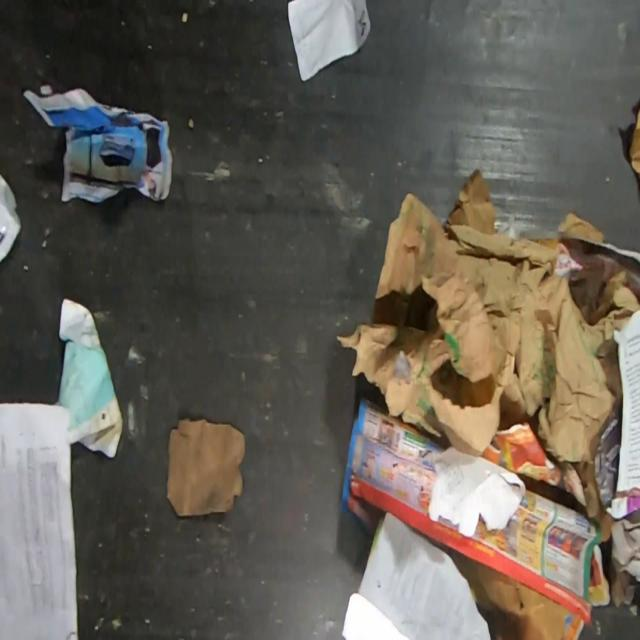cardboard: (166, 417, 246, 517), (629, 108, 640, 179)
soft_plastic: (0, 177, 22, 265)
